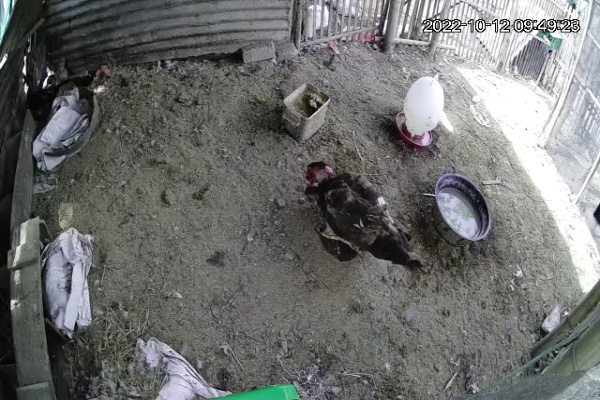Kawin: (299, 154, 425, 279)
